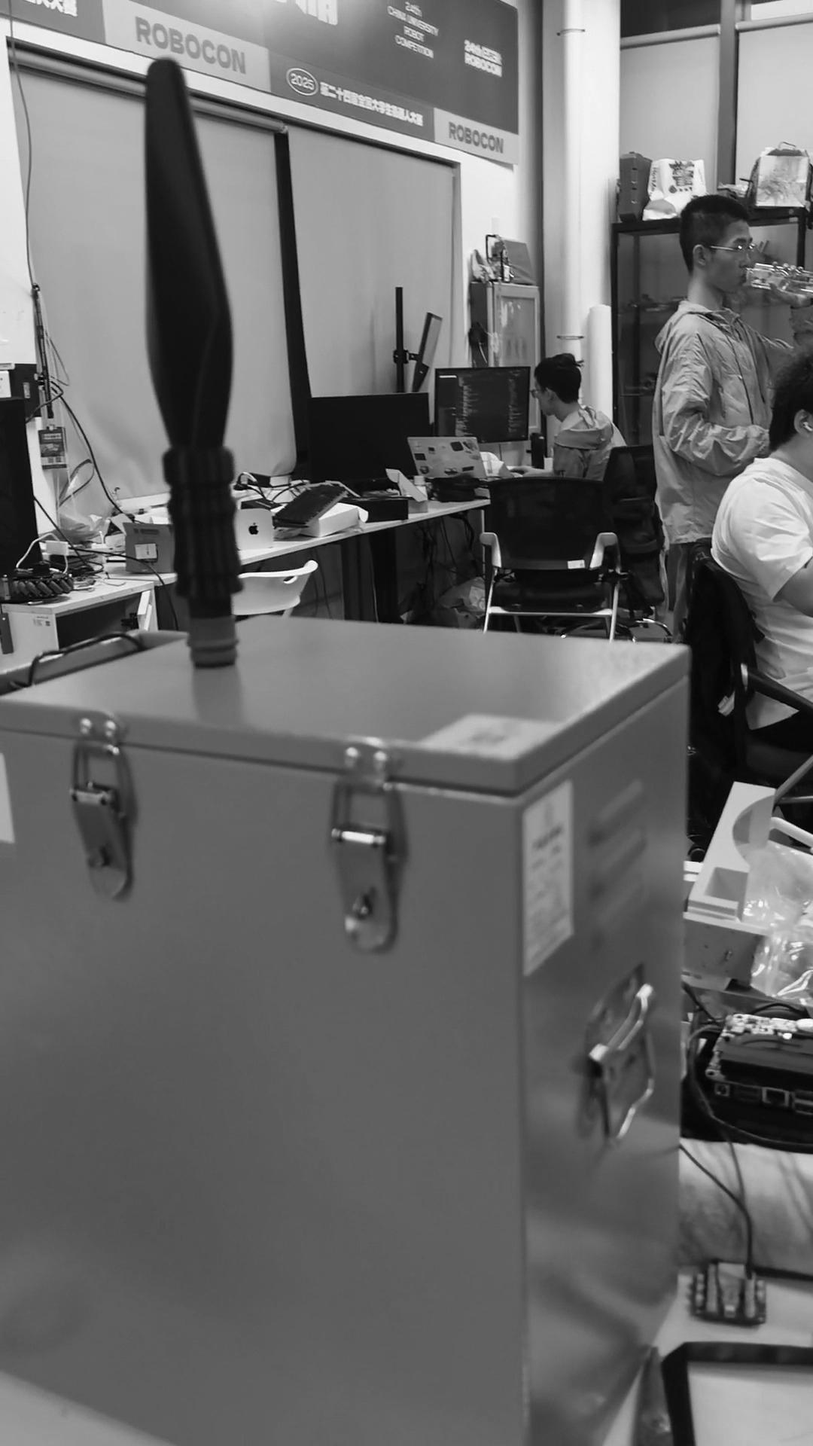base: (186, 615, 242, 669)
